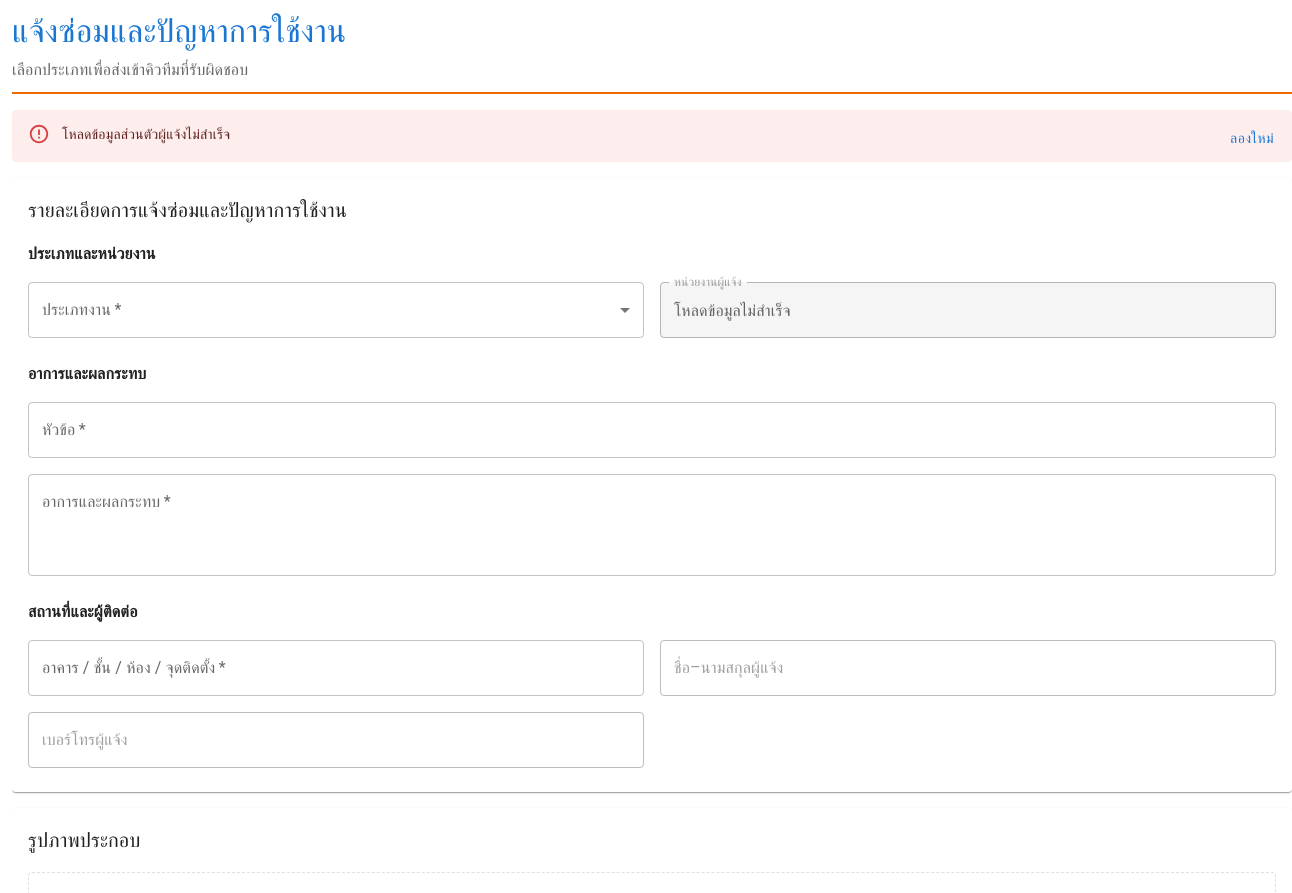
Test case: repair requester profile › does not display stale account data on error and supports retry without a department
The width and height of the screenshot is (1292, 893).
Expected: the text "โหลดข้อมูลส่วนตัวผู้แจ้งไม่สำเร็จ" is shown, 62,126 -> 230,142
Click the button "ลองใหม่": (1252, 138) 1220,120 -> 1284,156
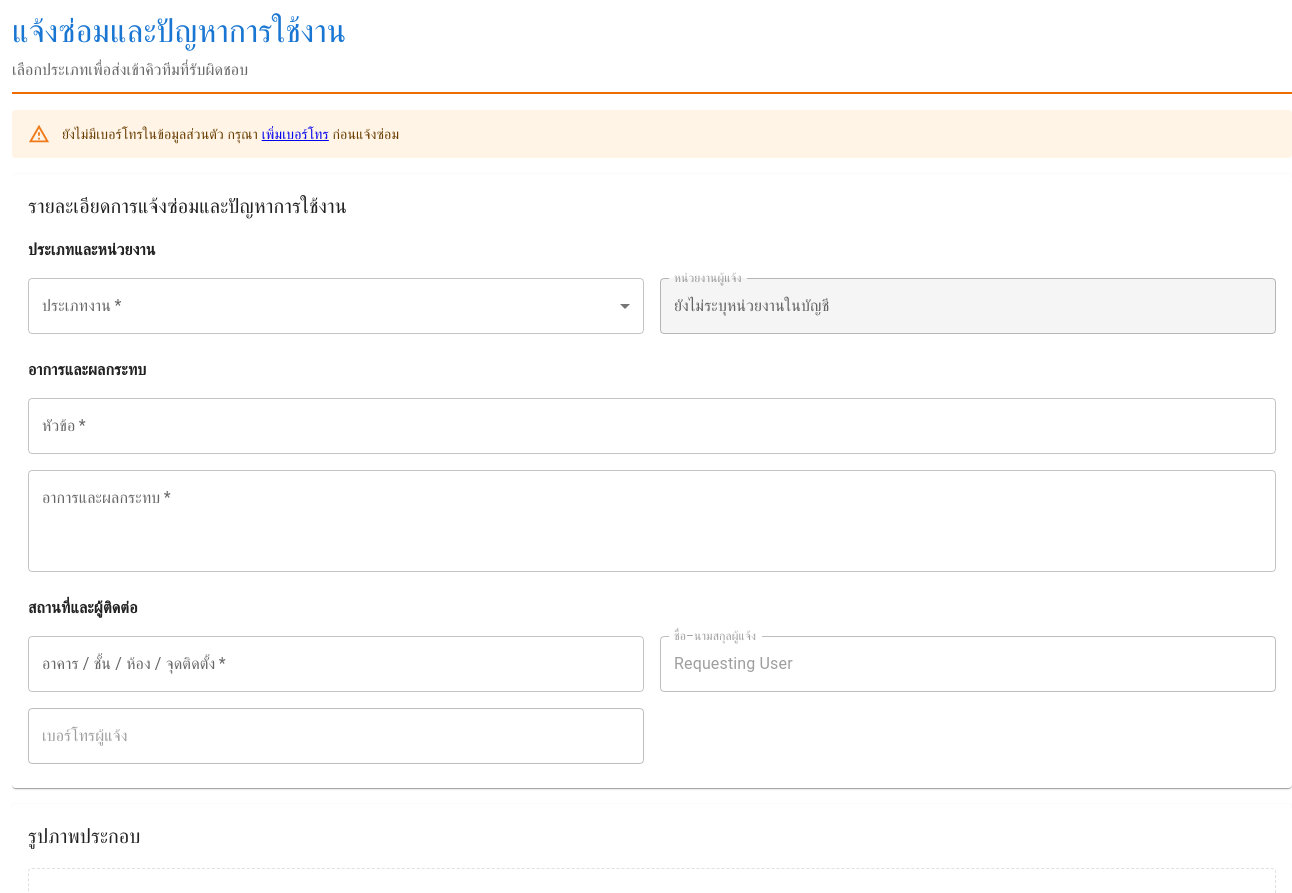
Expected: the field showing "ยังไม่ระบุหน่วยงานในบัญชี" is disabled, 660,278 -> 1276,334
Now the text "ยังไม่มีเบอร์โทรในข้อมูลส่วนตัว" is shown, box 62,126 -> 262,142
